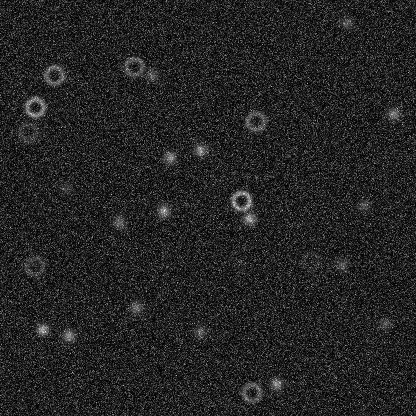Ring: (121, 54, 145, 78), (42, 63, 66, 87), (229, 188, 253, 212), (15, 119, 39, 143), (243, 109, 267, 133), (298, 249, 322, 273), (239, 380, 263, 404), (22, 254, 46, 278), (23, 95, 47, 119)
Spot: (34, 321, 50, 337), (111, 214, 127, 230), (385, 105, 401, 121), (192, 323, 208, 339), (333, 256, 349, 272), (60, 327, 76, 343), (155, 203, 171, 219), (58, 179, 74, 195), (355, 196, 371, 212), (376, 315, 392, 331), (241, 210, 257, 226), (128, 299, 144, 315), (268, 375, 284, 391), (144, 67, 160, 83), (162, 149, 178, 165), (191, 141, 207, 157), (339, 14, 355, 30)
